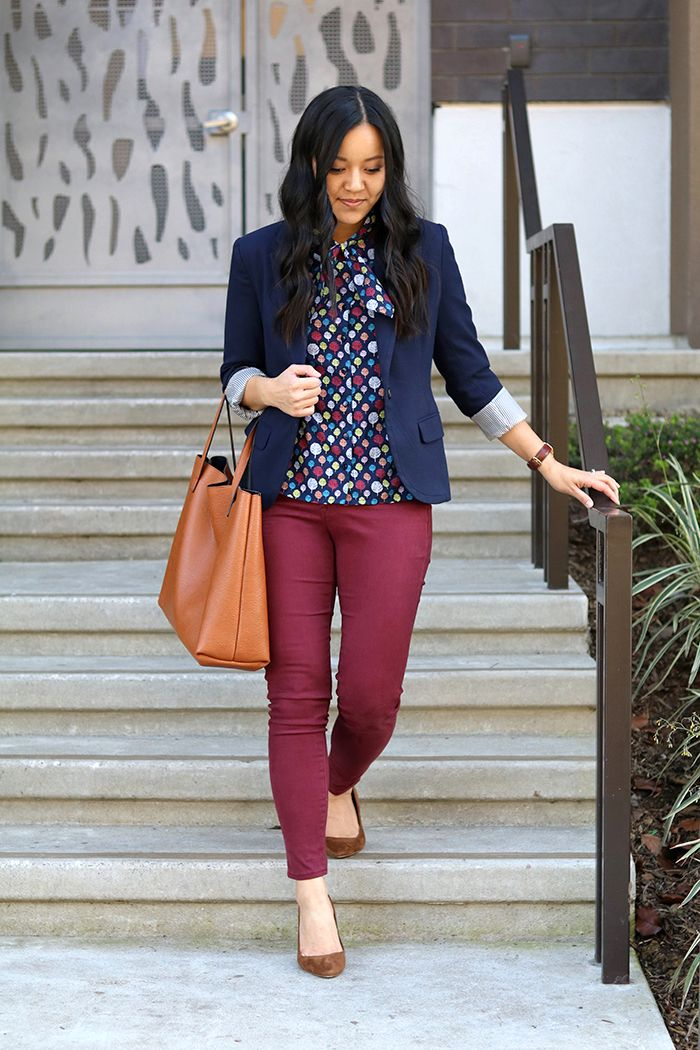F_W_suit jacket: (220, 206, 494, 507)
